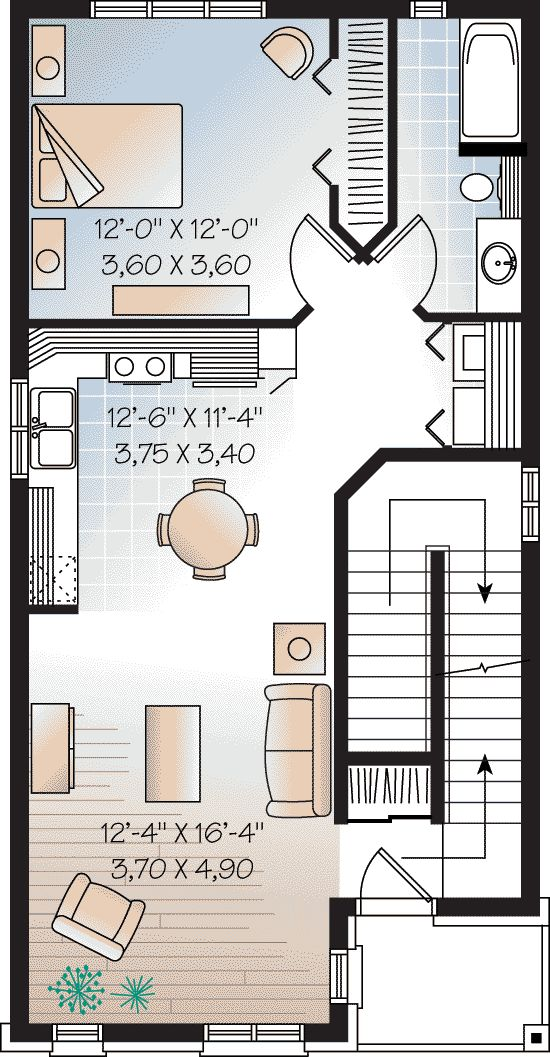door: (280, 208, 326, 298), (402, 209, 444, 300), (357, 845, 429, 894)
room: (6, 312, 352, 1057), (9, 5, 399, 325), (388, 1, 542, 328)
window: (202, 1017, 306, 1057), (86, 1, 269, 21), (5, 376, 31, 482), (50, 1019, 105, 1057), (518, 463, 543, 544), (328, 944, 350, 1006), (407, 1, 448, 20)
